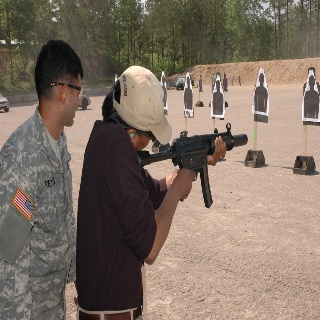rifle: (133, 123, 250, 211)
